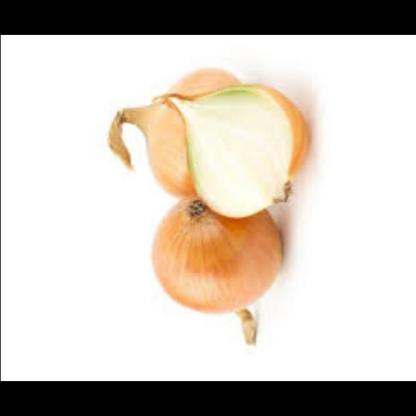onion: (153, 69, 311, 222), (98, 65, 244, 202), (145, 194, 282, 318)
